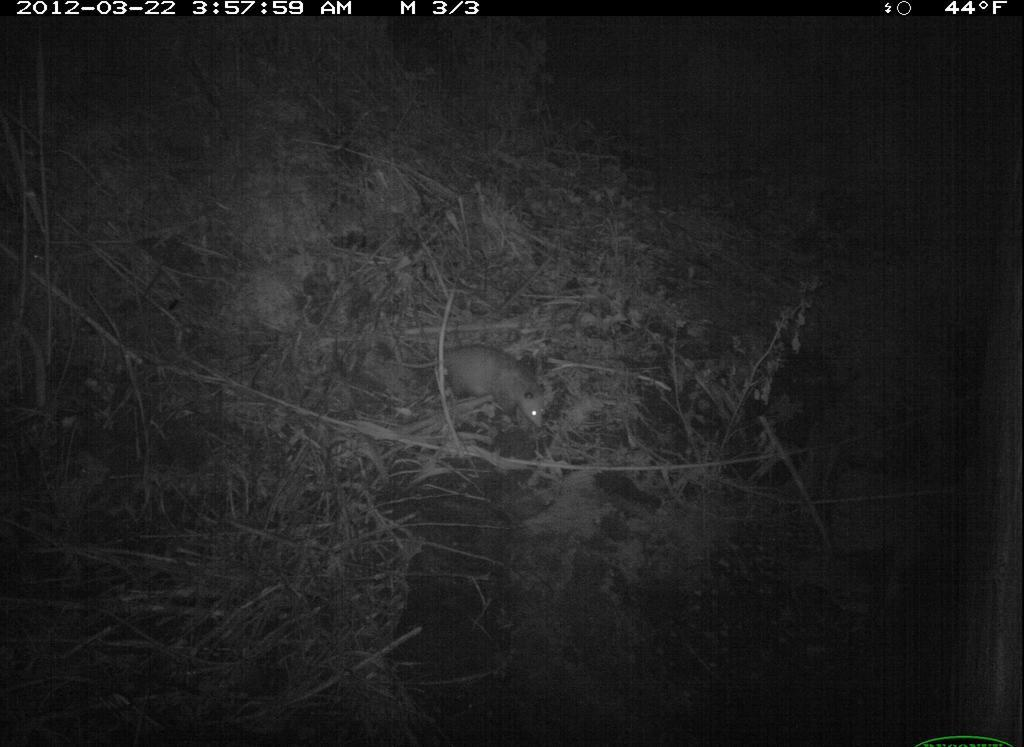opossum: (386, 342, 552, 438)
